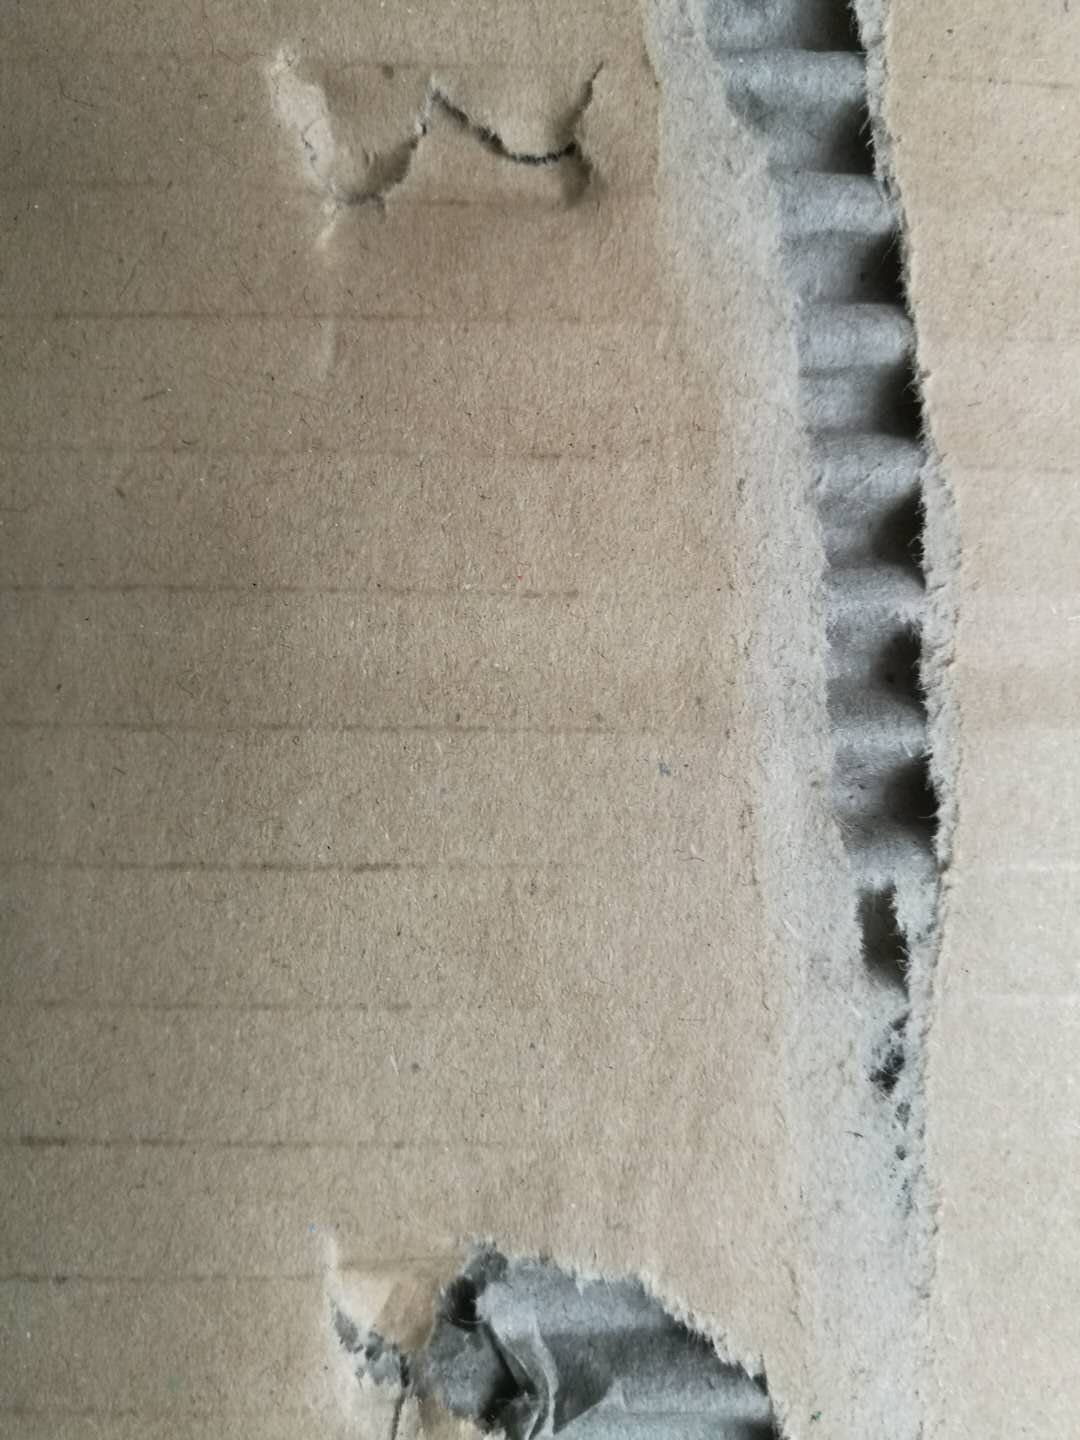defect: (605, 1, 1062, 1440), (222, 18, 635, 405), (295, 1193, 844, 1440)
